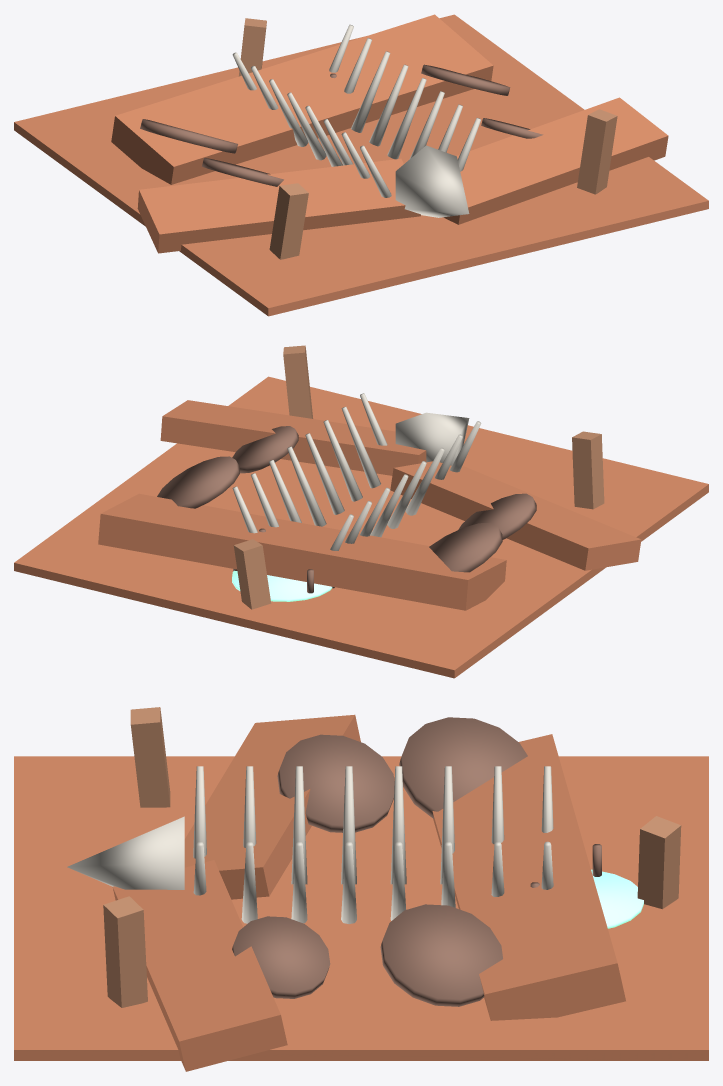
File: tarkan_desert.glb
3 views of the same model, one above another, from view 1: azimuth 30°, elevation 25°; view 2: azimuth 150°, elevation 25°; view 3: azimuth 270°, elevation 25° (orthographic). The views are drawn at different scales.
Visible parts, largest first — view 1: Tarkan_CrimsonDunesTotal, Tarkan_DuneRidge_1, Tarkan_DuneRidge_2, Tarkan_DuneRidge_3, Tarkan_DesertWormSkull, Tarkan_SandstoneMonolith_2, Tarkan_SandstoneMonolith_1, Tarkan_Cog2, Tarkan_SandstoneMonolith_3, Tarkan_Cog4, Tarkan_Cog1, Tarkan_WormRib_1_5 (+7 smaller); view 2: Tarkan_CrimsonDunesTotal, Tarkan_DuneRidge_1, Tarkan_DuneRidge_2, Tarkan_DuneRidge_3, Tarkan_Cog4, Tarkan_DesertWormSkull, Tarkan_Cog2, Tarkan_SandstoneMonolith_1, Tarkan_SandstoneMonolith_3, Tarkan_Cog1, Tarkan_Cog3, Tarkan_SandstoneMonolith_2 (+9 smaller); view 3: Tarkan_CrimsonDunesTotal, Tarkan_DuneRidge_1, Tarkan_DuneRidge_3, Tarkan_DuneRidge_2, Tarkan_Cog4, Tarkan_Cog1, Tarkan_Cog2, Tarkan_Cog3, Tarkan_DesertWormSkull, Tarkan_SandstoneMonolith_2, Tarkan_SandstoneMonolith_3, Tarkan_SandstoneMonolith_1 (+15 smaller).
Part boxes in pixels (bbox=[...]): Tarkan_CrimsonDunesTotal: bbox=[14, 14, 708, 316]; Tarkan_DuneRidge_1: bbox=[111, 14, 493, 184]; Tarkan_DuneRidge_2: bbox=[137, 158, 420, 253]; Tarkan_DuneRidge_3: bbox=[443, 97, 668, 224]; Tarkan_DesertWormSkull: bbox=[395, 145, 469, 217]; Tarkan_SandstoneMonolith_2: bbox=[577, 109, 617, 194]; Tarkan_SandstoneMonolith_1: bbox=[269, 183, 308, 259]; Tarkan_Cog2: bbox=[140, 119, 237, 153]; Tarkan_SandstoneMonolith_3: bbox=[238, 18, 266, 76]; Tarkan_Cog4: bbox=[421, 64, 510, 95]; Tarkan_Cog1: bbox=[202, 158, 283, 186]; Tarkan_WormRib_1_5: bbox=[369, 64, 408, 146]; Tarkan_CrimsonDunesTotal: bbox=[14, 376, 708, 678]; Tarkan_DuneRidge_1: bbox=[98, 493, 506, 610]; Tarkan_DuneRidge_2: bbox=[390, 461, 641, 570]; Tarkan_DuneRidge_3: bbox=[160, 400, 426, 475]; Tarkan_Cog4: bbox=[157, 456, 239, 508]; Tarkan_DesertWormSkull: bbox=[395, 412, 469, 465]; Tarkan_Cog2: bbox=[429, 522, 502, 572]; Tarkan_SandstoneMonolith_1: bbox=[572, 431, 604, 509]; Tarkan_SandstoneMonolith_3: bbox=[233, 539, 271, 609]; Tarkan_Cog1: bbox=[458, 493, 536, 539]; Tarkan_Cog3: bbox=[232, 426, 298, 473]; Tarkan_SandstoneMonolith_2: bbox=[283, 345, 313, 418]; Tarkan_CrimsonDunesTotal: bbox=[14, 756, 708, 1060]; Tarkan_DuneRidge_1: bbox=[432, 734, 625, 1020]; Tarkan_DuneRidge_3: bbox=[112, 860, 287, 1071]; Tarkan_DuneRidge_2: bbox=[184, 714, 360, 899]; Tarkan_Cog4: bbox=[380, 904, 502, 1006]; Tarkan_Cog1: bbox=[277, 734, 394, 832]; Tarkan_Cog2: bbox=[399, 717, 527, 818]; Tarkan_Cog3: bbox=[232, 916, 330, 998]; Tarkan_DesertWormSkull: bbox=[67, 816, 184, 889]; Tarkan_SandstoneMonolith_2: bbox=[103, 896, 147, 1007]; Tarkan_SandstoneMonolith_3: bbox=[637, 816, 681, 909]; Tarkan_SandstoneMonolith_1: bbox=[130, 707, 170, 807].
Bounding box in the file's own units: 61.18 × 10.3 × 56.
